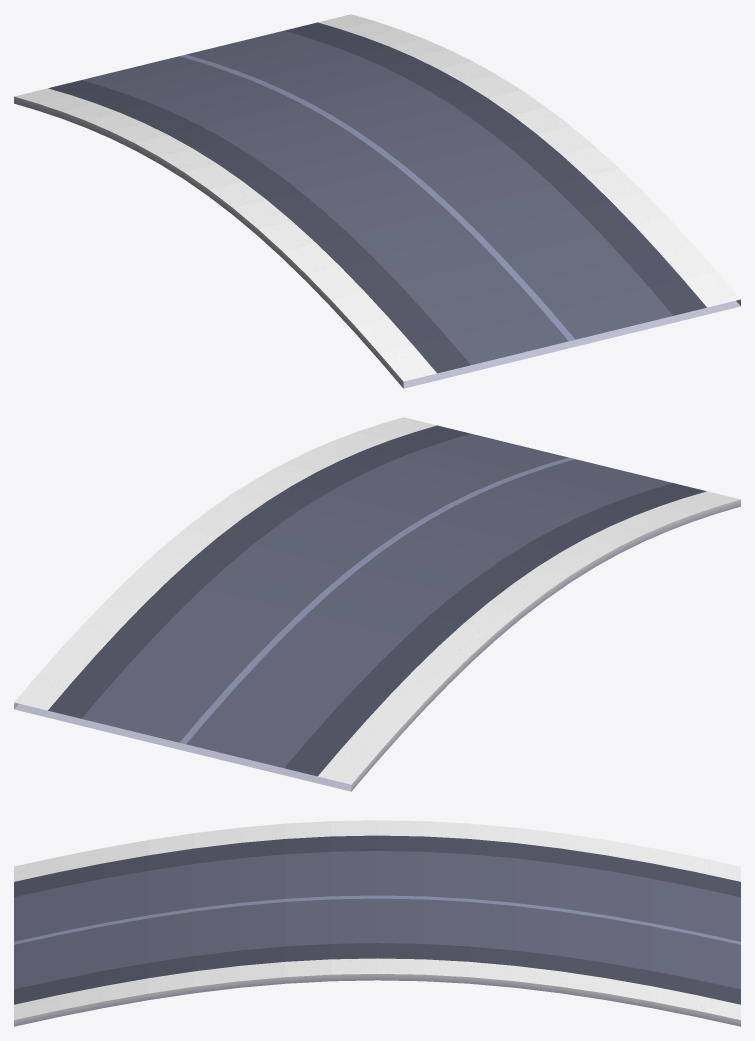
Rendered from road-Straight-BiSlopeUp-BiSlopeDown-Even-Center-Size2.glb.
3 views of the same model, one above another, from view 1: azimuth 30°, elevation 25°; view 2: azimuth 150°, elevation 25°; view 3: azimuth 270°, elevation 25° (orthographic). The views are drawn at different scales.
Parts seen in each view (by area): view 1: road-Straight-BiSlopeUp-BiSlopeDown-Even-Center-Size2; view 2: road-Straight-BiSlopeUp-BiSlopeDown-Even-Center-Size2; view 3: road-Straight-BiSlopeUp-BiSlopeDown-Even-Center-Size2.
Part boxes in pixels (x1=…): road-Straight-BiSlopeUp-BiSlopeDown-Even-Center-Size2: x1=14, y1=14, x2=740, y2=388; road-Straight-BiSlopeUp-BiSlopeDown-Even-Center-Size2: x1=14, y1=417, x2=740, y2=791; road-Straight-BiSlopeUp-BiSlopeDown-Even-Center-Size2: x1=14, y1=820, x2=740, y2=1026.
Size of the model in its own units: 1 by 0.1606 by 2.
Materials: 1 (1 with a texture image).
